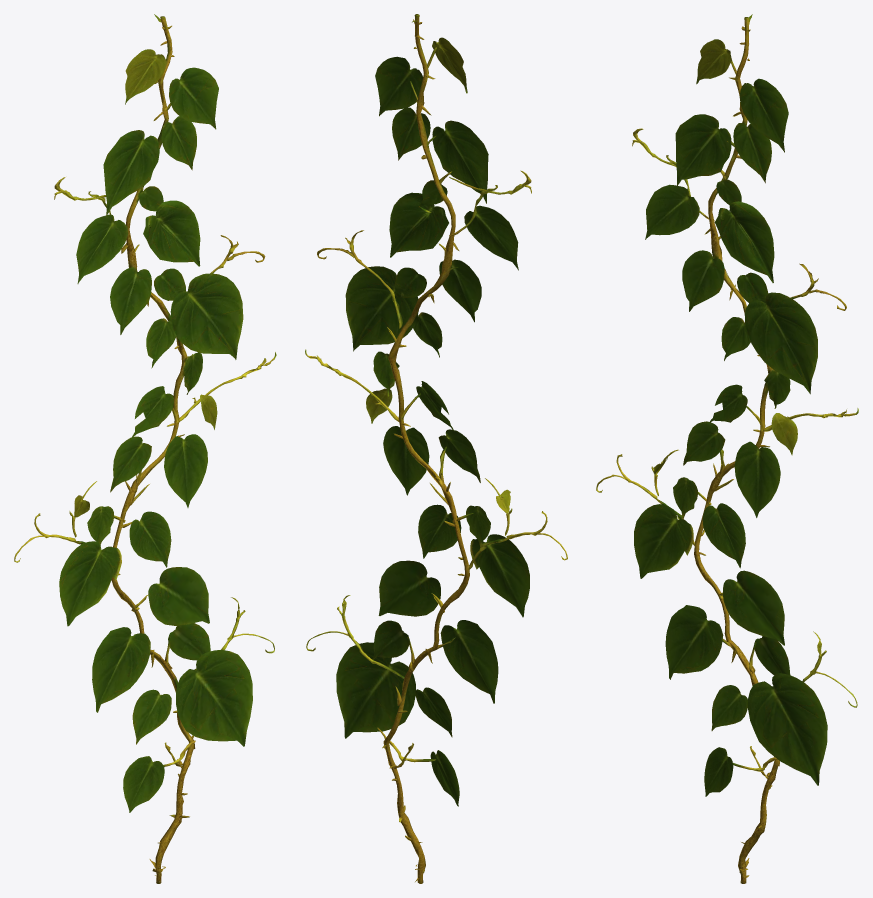
Rendered from vine_wall.glb.
3 renders of one model, left to right at view 1: azimuth 30°, elevation 25°; view 2: azimuth 150°, elevation 25°; view 3: azimuth 330°, elevation 25°, orthographic.
Bounding box in the file's own units: 0.3169 × 1 × 0.0374.
1 material, 1 textured.
